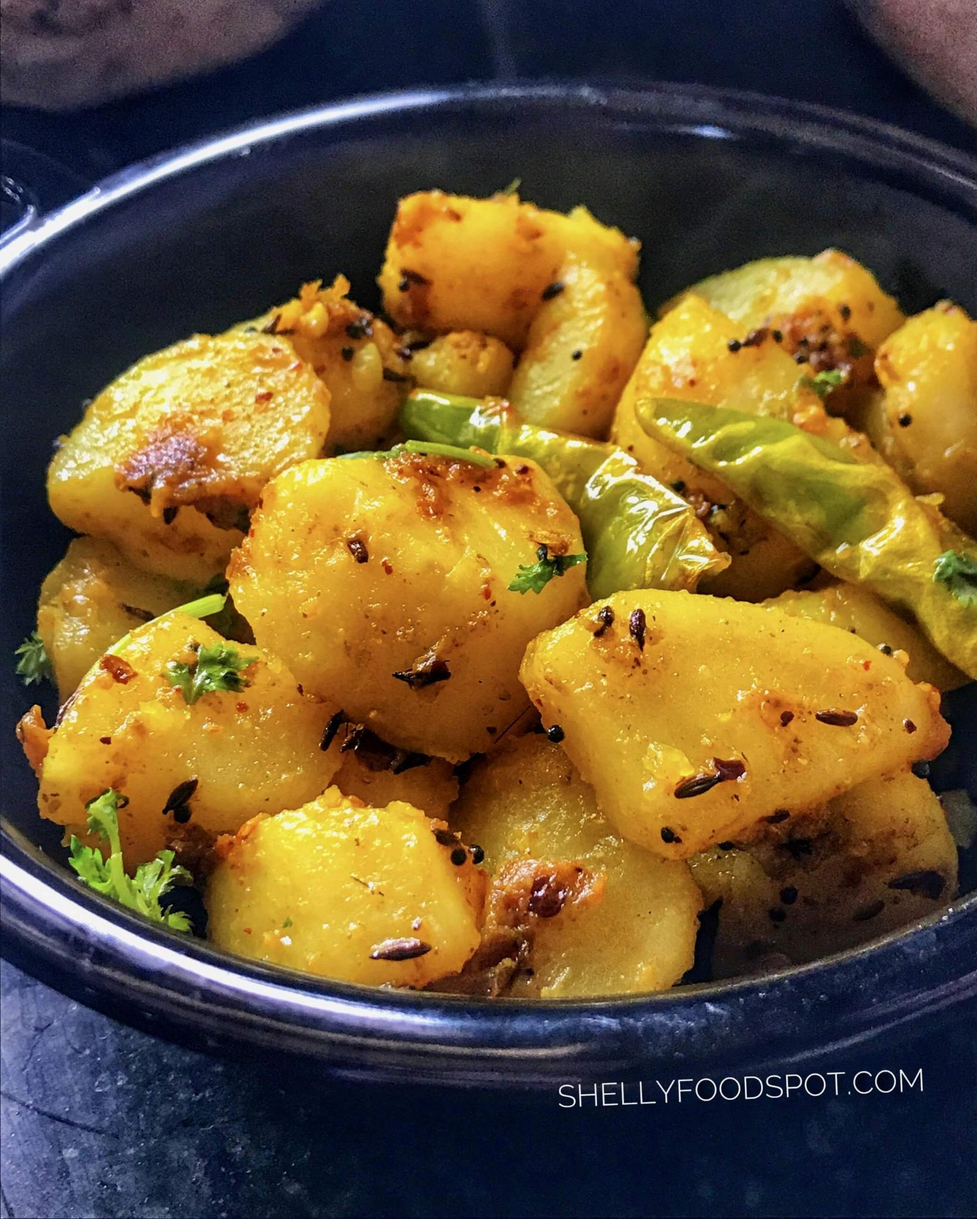aloo sabji: (49, 220, 977, 896)
